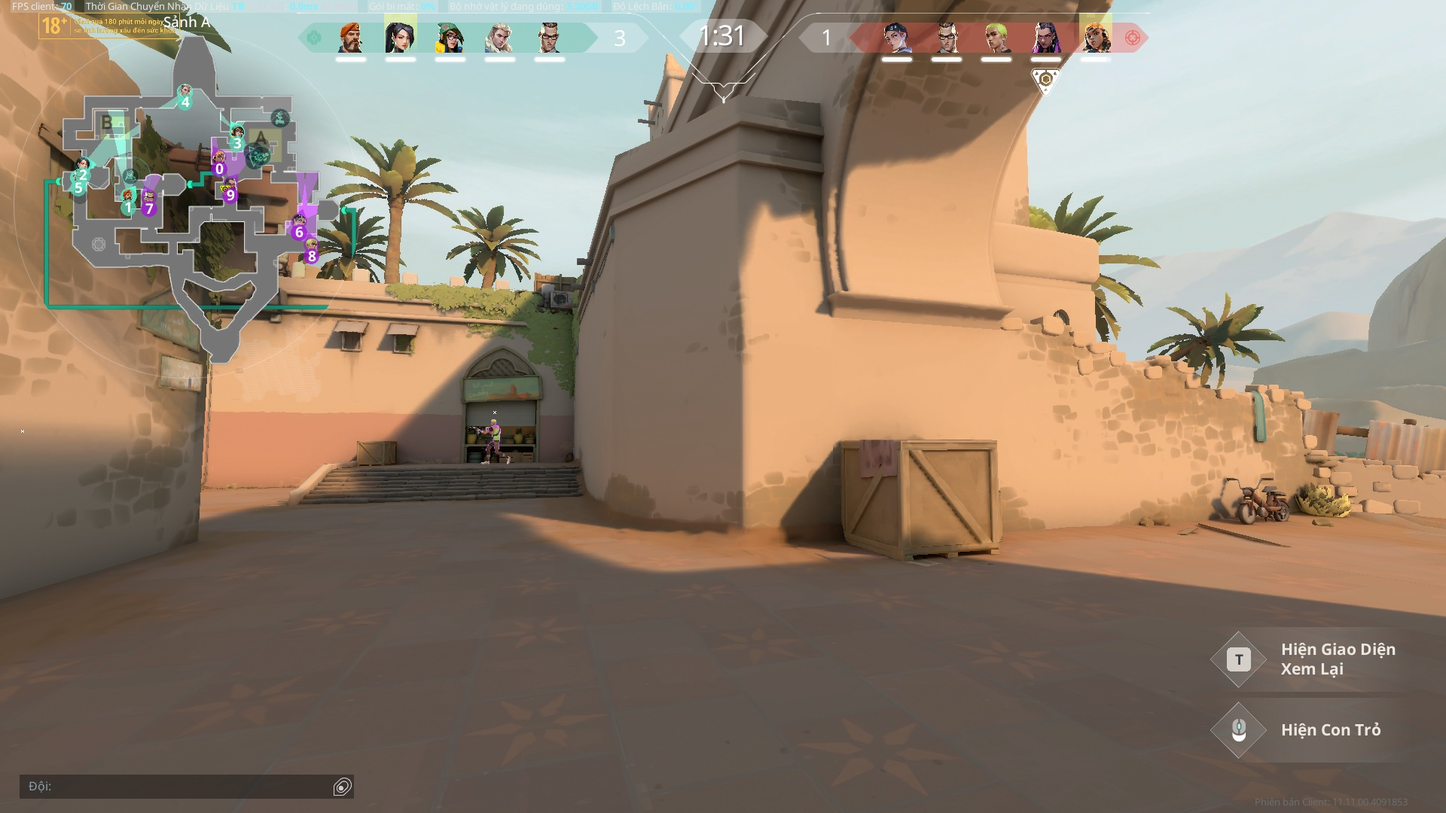body: (490, 424, 502, 440)
head: (490, 418, 497, 425)
